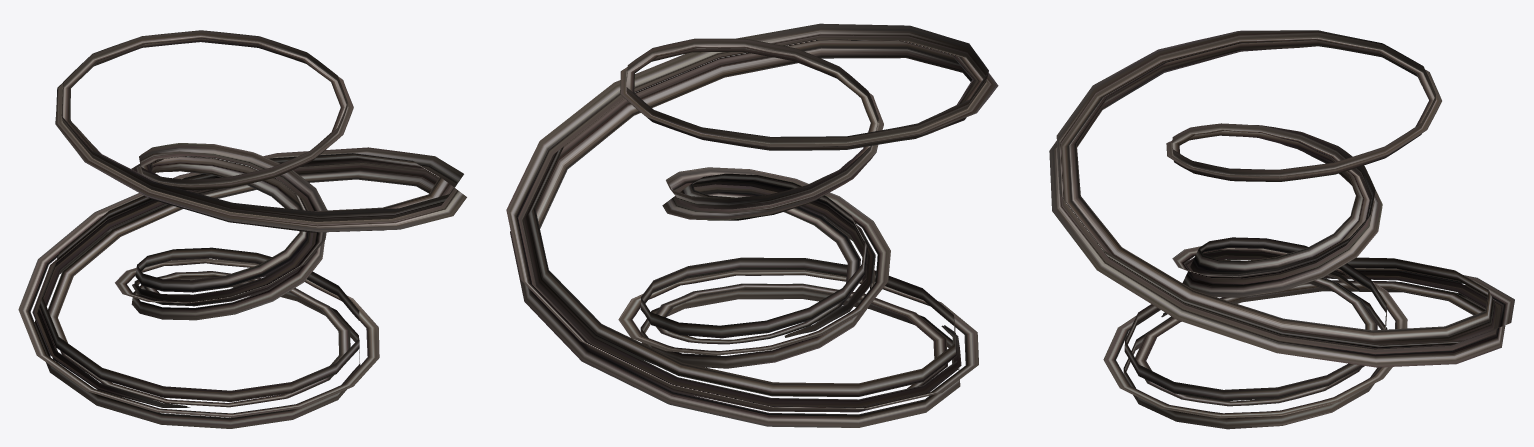
The model's file is E_gintan_attack2.FBX.
The picture shows the model from 3 angles, left to right: view 1: azimuth 30°, elevation 25°; view 2: azimuth 150°, elevation 25°; view 3: azimuth 270°, elevation 25°; orthographic projection. The views are drawn at different scales.
Visible parts, largest first — view 1: Torus Knot001; view 2: Torus Knot001; view 3: Torus Knot001.
Boxes of the visible parts, left/top/right/bottom form: Torus Knot001: left=18, top=30, right=466, bottom=428; Torus Knot001: left=506, top=23, right=998, bottom=427; Torus Knot001: left=1049, top=30, right=1514, bottom=429.
Size of the model in its own units: 253 by 183 by 260.
Materials: 1 (1 with a texture image).
